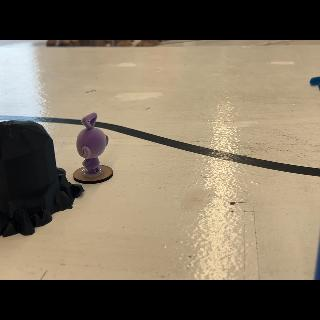teletubby: (76, 113, 109, 174)
